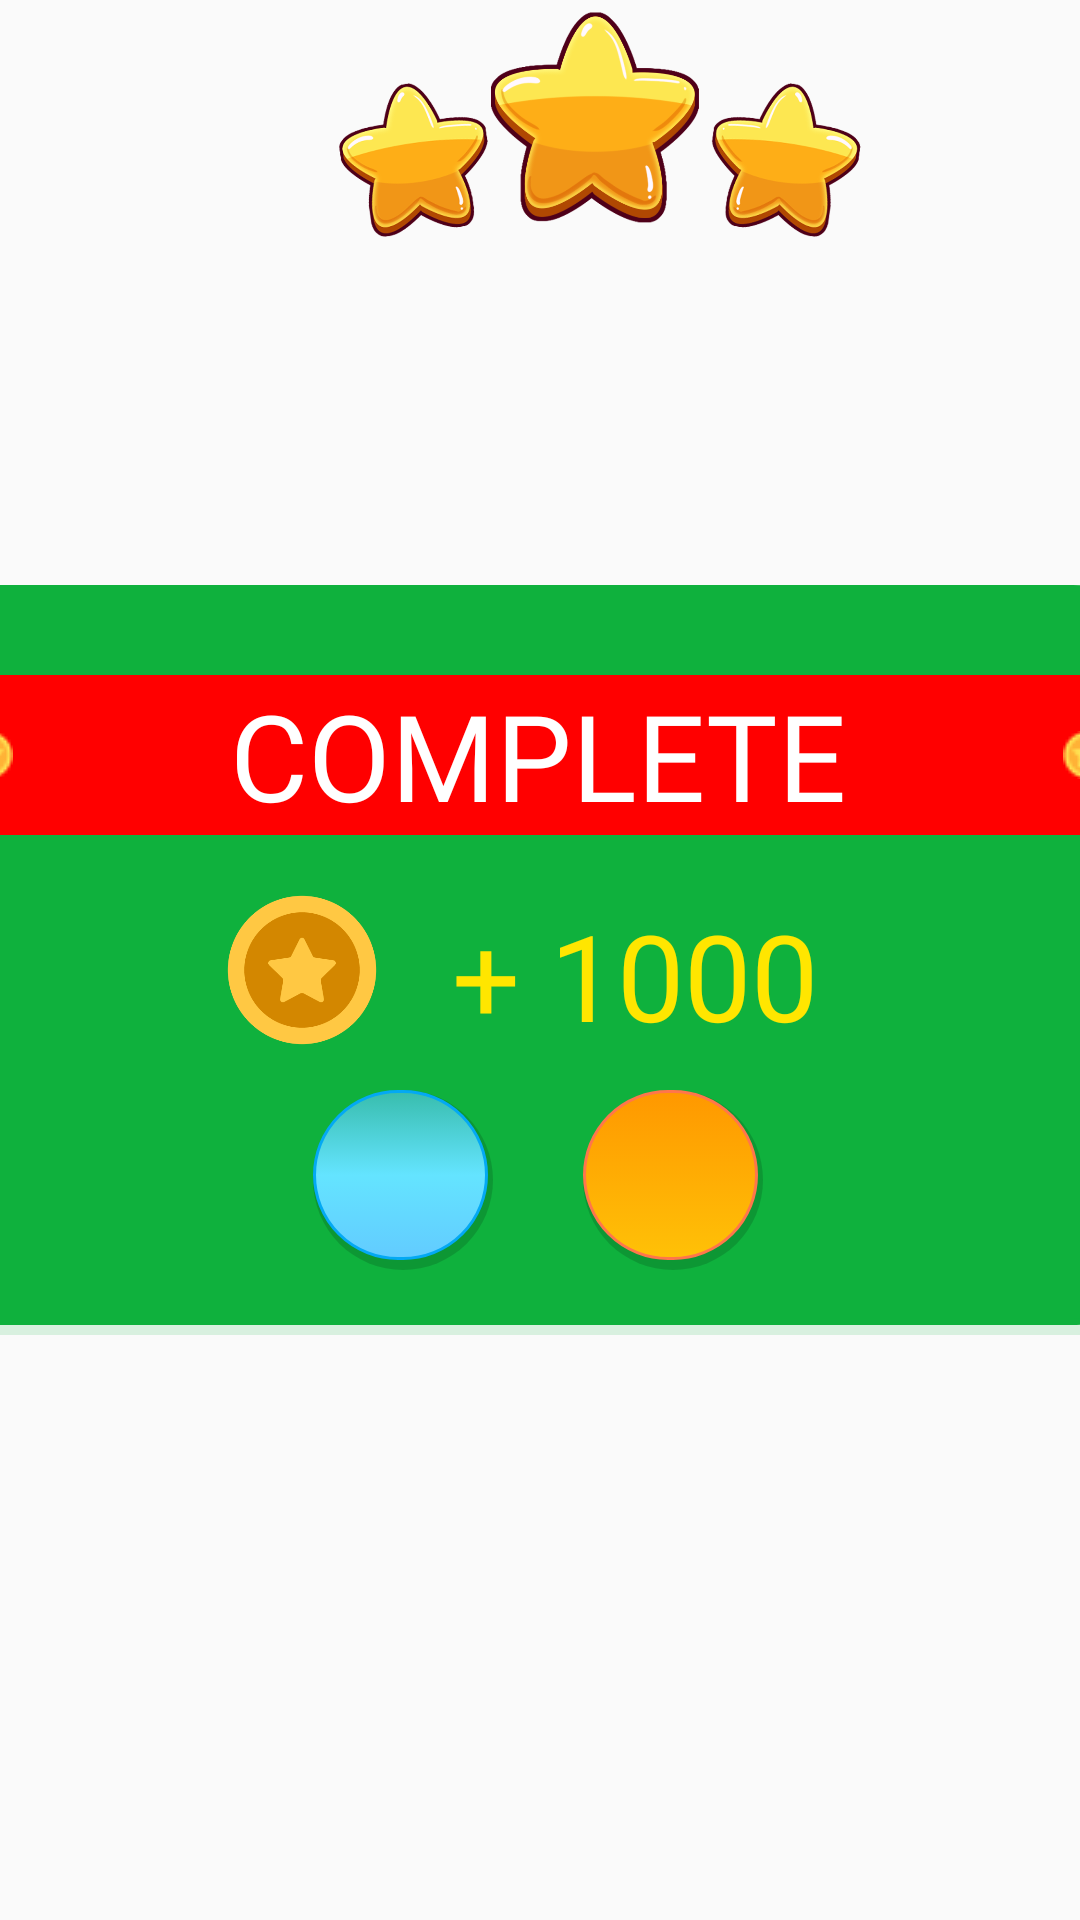

Point at icon controls on the screen. Image size 1080x1920, points as point (x, y).
coin: point (302, 970)
